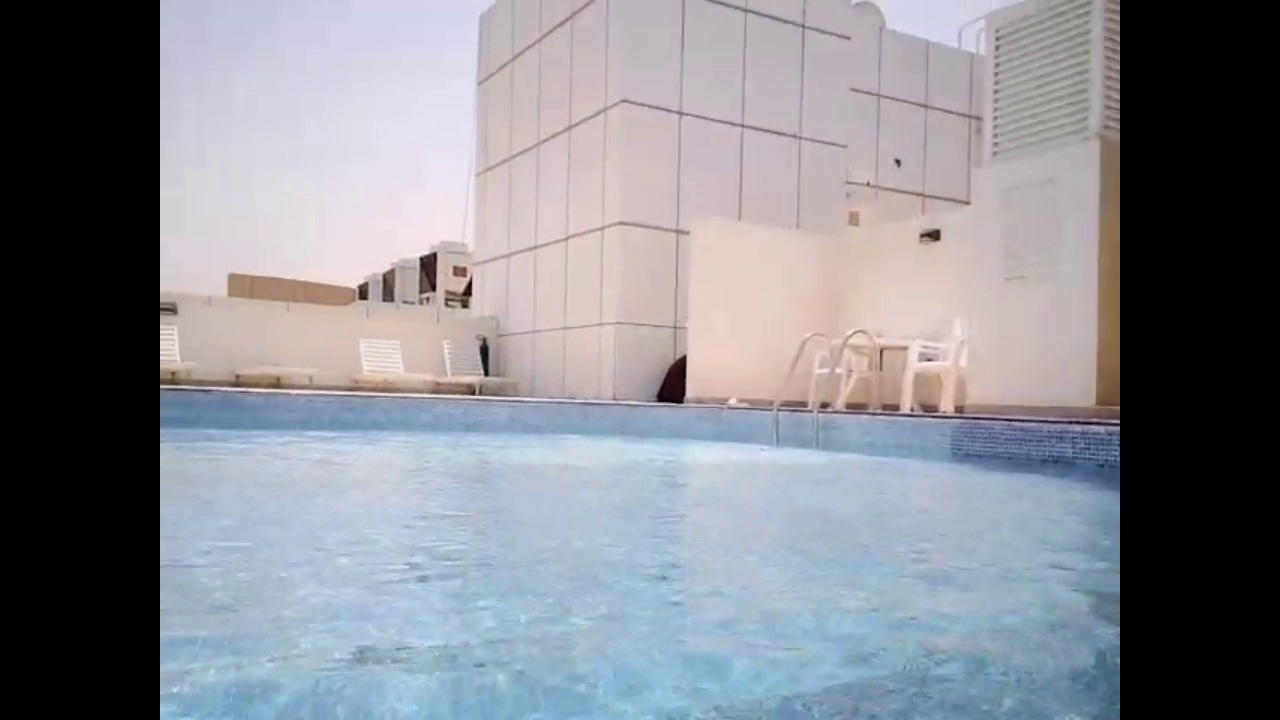debris: (756, 442, 769, 452)
